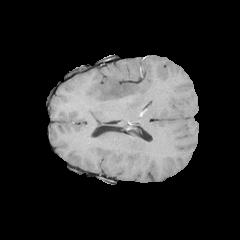glioma: (91, 74, 140, 127)
